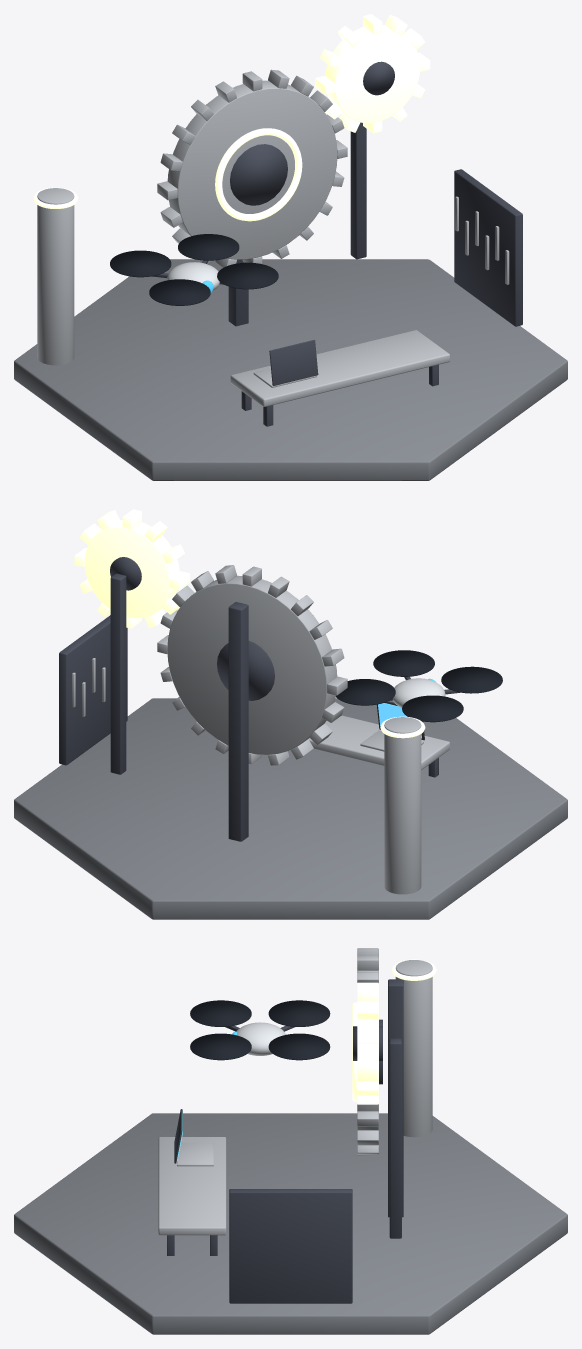
Rendered from forge.glb.
The picture shows the model from 3 angles, top to bottom: view 1: azimuth 30°, elevation 25°; view 2: azimuth 150°, elevation 25°; view 3: azimuth 270°, elevation 25°; orthographic projection.
Visible parts, largest first — view 1: forge_Concrete, forge_Steel, forge_Graphite, forge_Amber, forge_DarkPanel, forge_Hull; view 2: forge_Concrete, forge_Steel, forge_Graphite, forge_Amber, forge_DarkPanel, forge_Hull; view 3: forge_Concrete, forge_Graphite, forge_Steel, forge_DarkPanel, forge_Amber, forge_Hull.
Part boxes in pixels (x1,y1,x2,y2): forge_Concrete: (14,259,567,480); forge_Steel: (37,69,509,406); forge_Graphite: (152,61,522,426); forge_Amber: (33,14,430,221); forge_DarkPanel: (110,234,278,305); forge_Hull: (167,262,219,291); forge_Concrete: (14,698,567,919); forge_Steel: (72,565,449,894); forge_Graphite: (59,557,459,841); forge_Amber: (74,509,425,738); forge_DarkPanel: (336,650,502,722); forge_Hull: (393,678,445,708); forge_Concrete: (14,1113,567,1334); forge_Graphite: (167,979,403,1303); forge_Steel: (158,948,432,1235); forge_DarkPanel: (190,1000,330,1060); forge_Amber: (352,959,436,1104); forge_Hull: (236,1022,285,1055).
Bounding box in the file's own units: 15.59 × 10.87 × 17.97.
